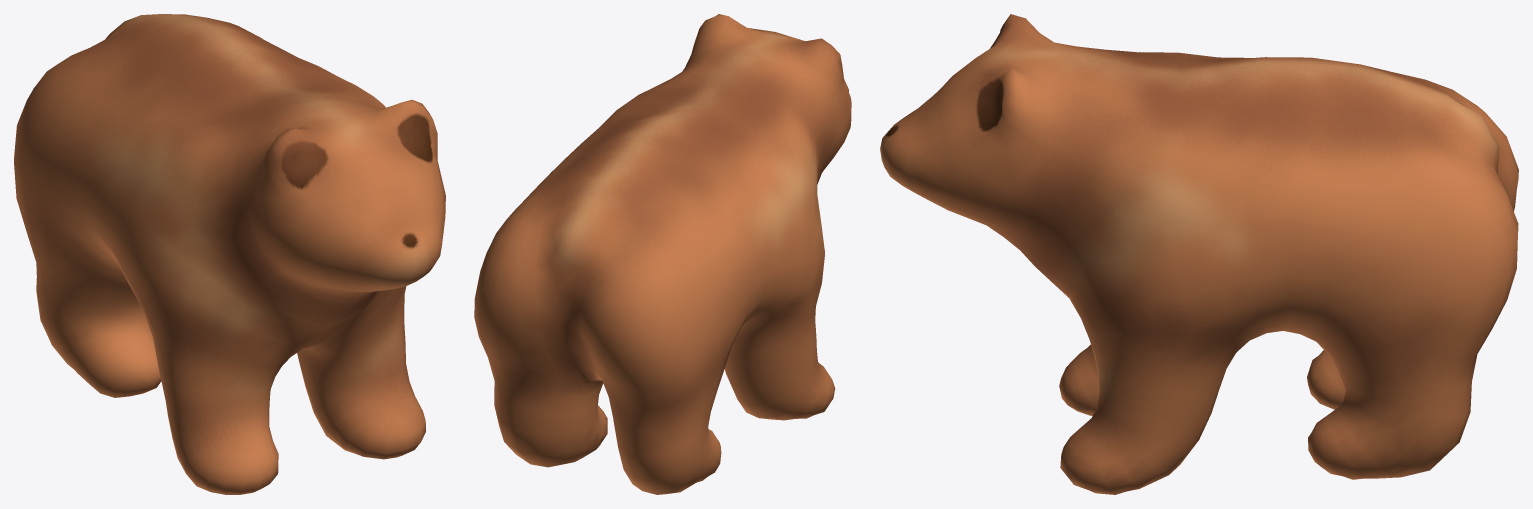
The model's file is bearf.obj.
3 views of the same model, side by side, from view 1: azimuth 30°, elevation 25°; view 2: azimuth 150°, elevation 25°; view 3: azimuth 270°, elevation 25° (orthographic). The views are drawn at different scales.
Visible parts, largest first — view 1: lp_1502; view 2: lp_1502; view 3: lp_1502.
Boxes of the visible parts, box(x1,y1,x2,y2) form: lp_1502: box(14, 14, 445, 494); lp_1502: box(474, 14, 851, 494); lp_1502: box(880, 14, 1518, 494).
Size of the model in its own units: 10.81 by 15.11 by 21.67.
1 material, 1 textured.
